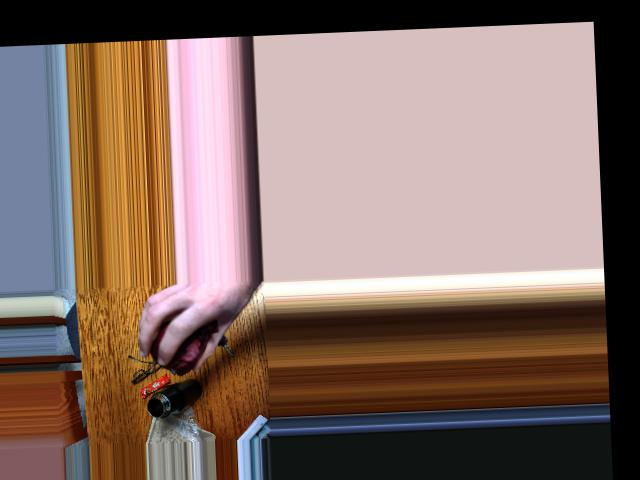onion: (147, 320, 203, 371)
